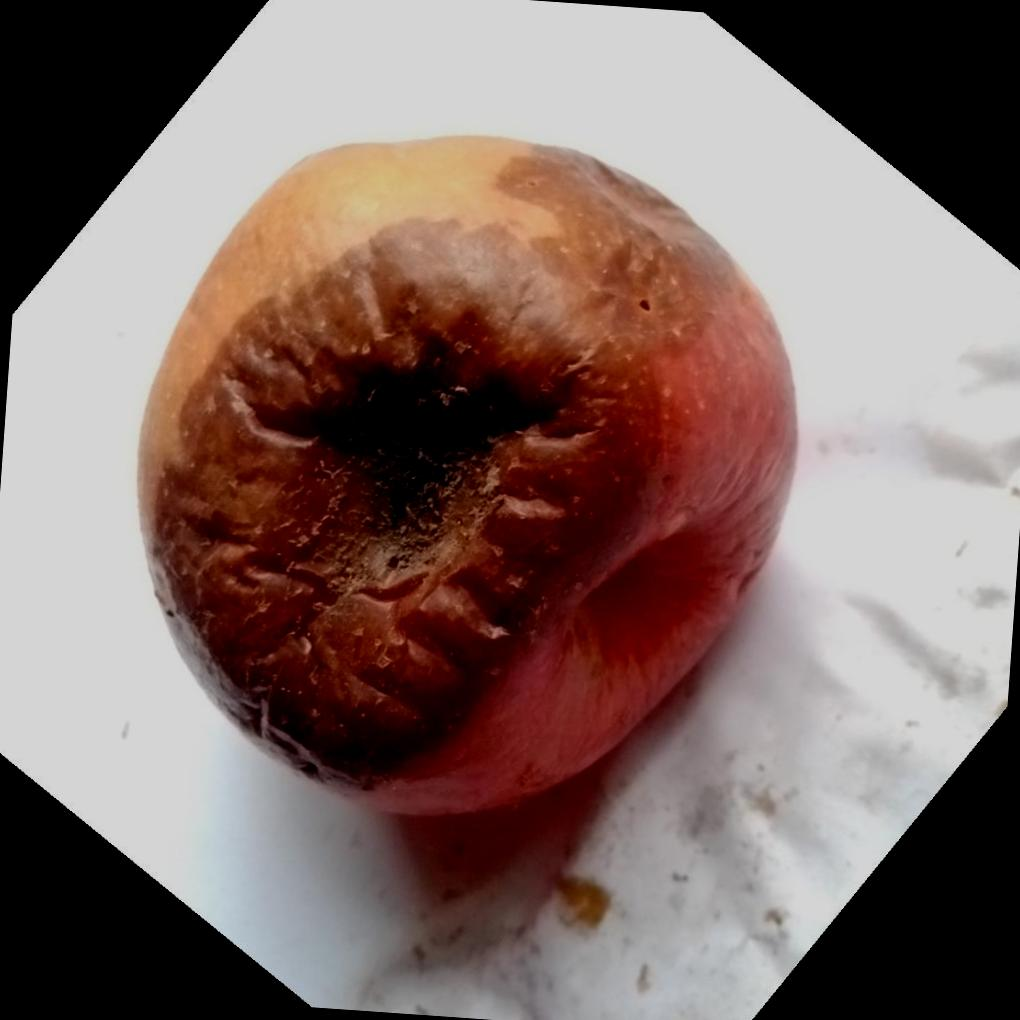FreshOrange: (132, 133, 802, 829)
